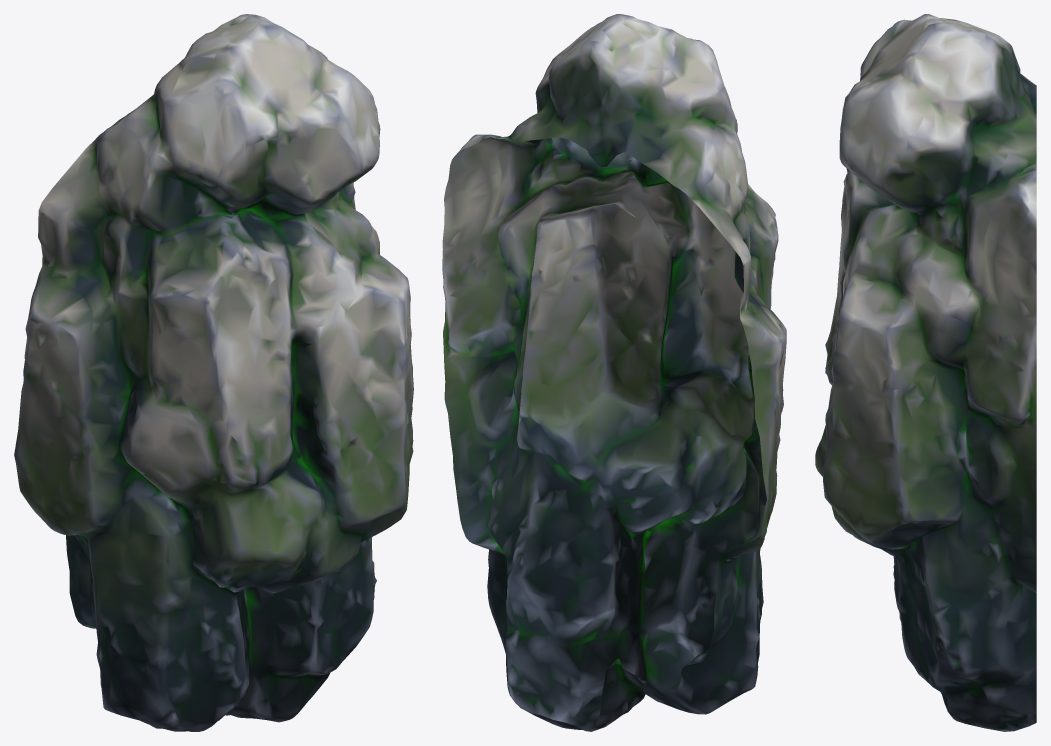
Rendered from M_Cliff_Rock_T11.fbx.
The picture shows the model from 3 angles, left to right: view 1: azimuth 30°, elevation 25°; view 2: azimuth 150°, elevation 25°; view 3: azimuth 270°, elevation 25°; orthographic projection. The views are drawn at different scales.
Visible parts, largest first — view 1: M_Cliff_Rock_T11; view 2: M_Cliff_Rock_T11; view 3: M_Cliff_Rock_T11.
Part boxes in pixels (x1,y1,x2,y2): M_Cliff_Rock_T11: [14, 14, 413, 731]; M_Cliff_Rock_T11: [442, 14, 786, 731]; M_Cliff_Rock_T11: [815, 14, 1036, 731].
Bounding box in the file's own units: 12 × 24.28 × 7.04.
